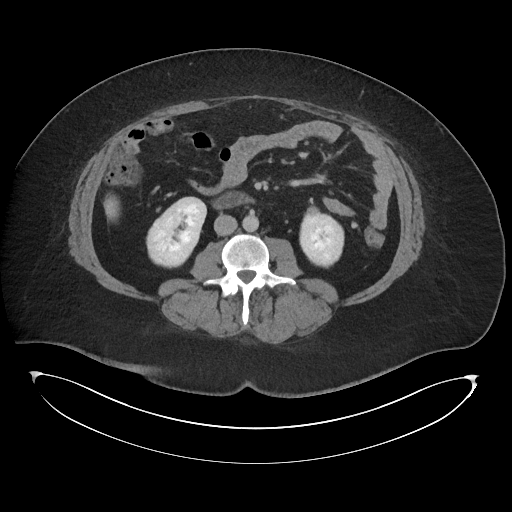Lesion: (305, 206, 320, 218)
